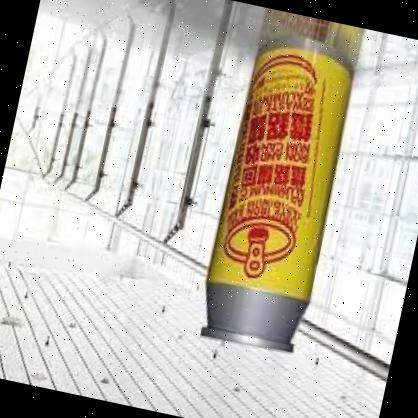can: (194, 32, 361, 358)
